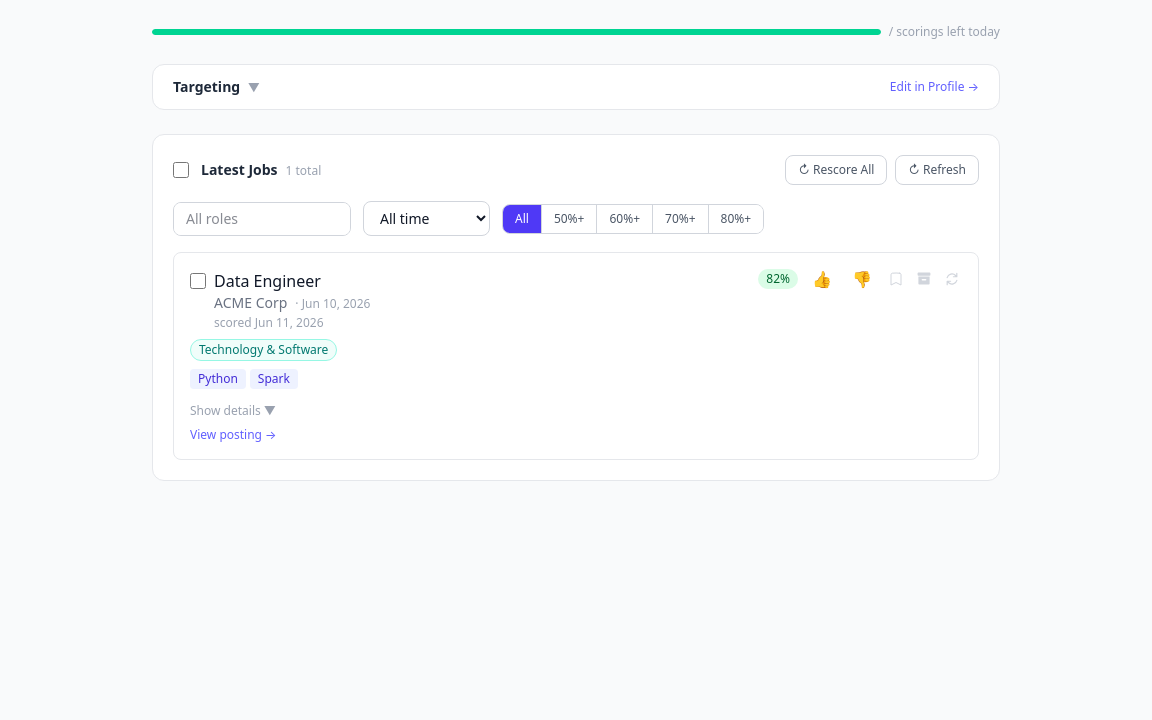
LatestJobs — score breakdown › breakdown table appears after clicking Show details
This screenshot has width=1152, height=720.
Click the button "Show details ▼": point(233, 411) top-left (190, 403), bottom-right (276, 419)
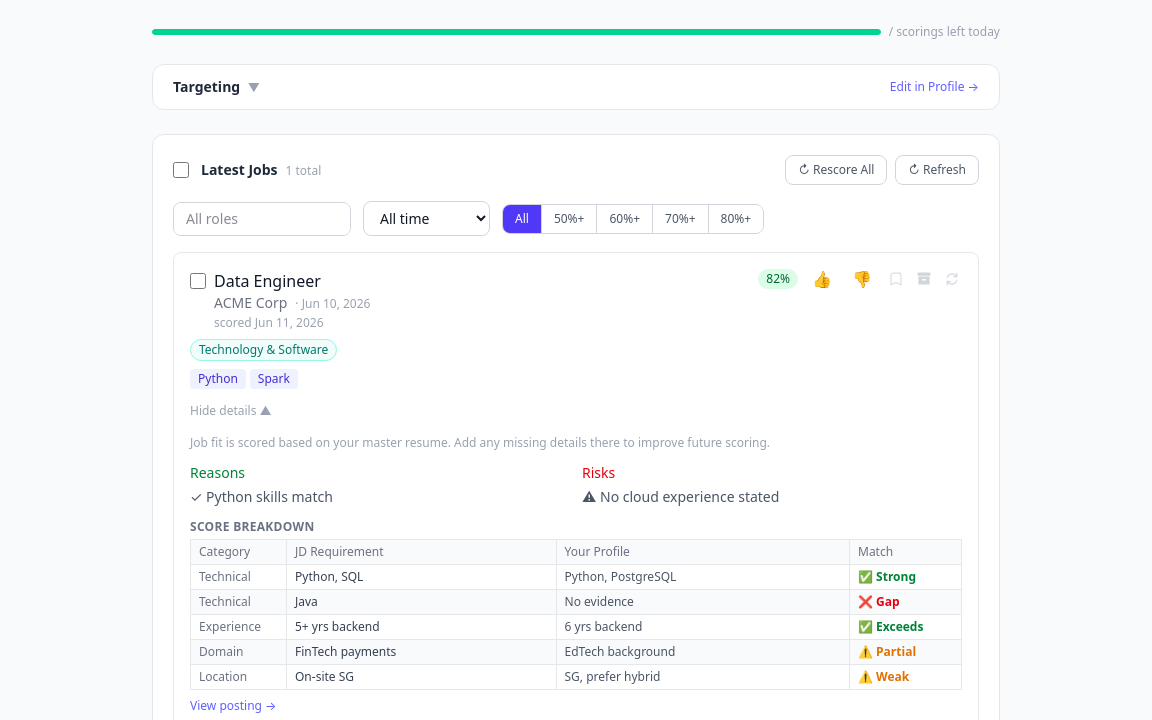
Expected: the text "Score Breakdown" is shown, top-left (190, 518), bottom-right (314, 535)
Expected: the text "Python, SQL" is shown, top-left (286, 564), bottom-right (556, 590)
Expected: the text "Python, PostgreSQL" is shown, top-left (556, 564), bottom-right (850, 590)
